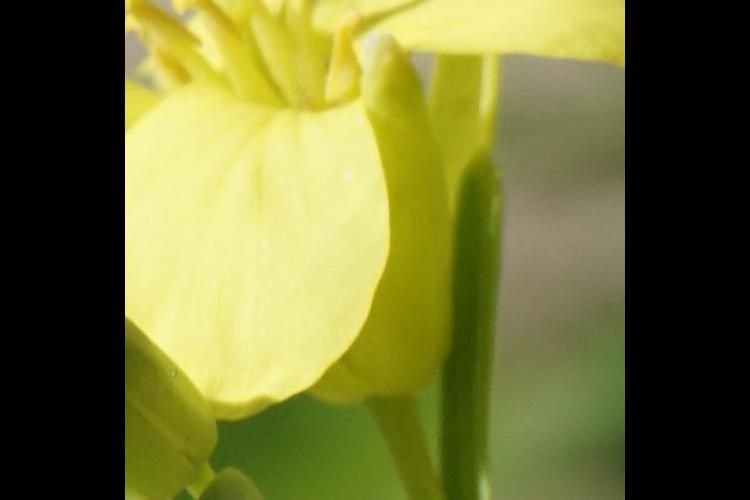yellow: (130, 1, 589, 440)
